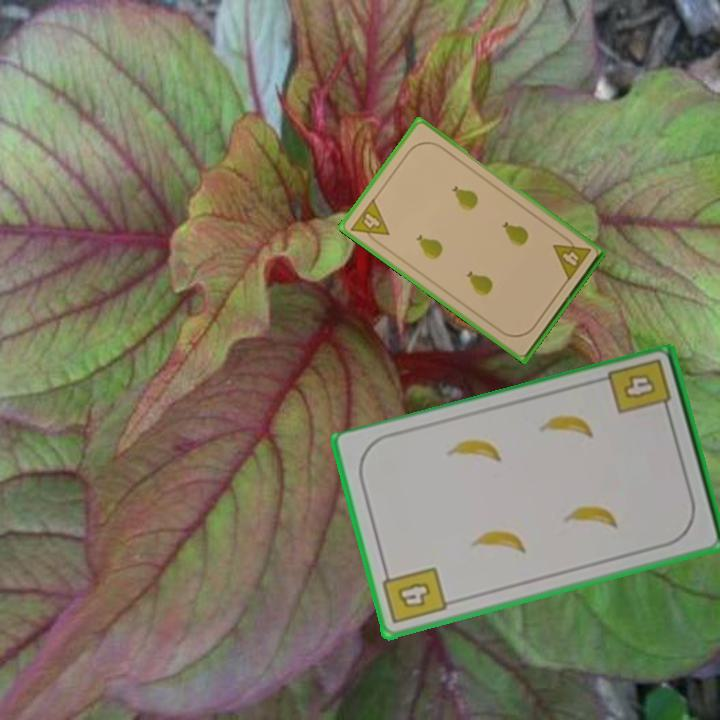4b: (605, 355, 675, 421), (379, 564, 450, 627)
4p: (347, 195, 392, 249), (549, 231, 593, 284)
